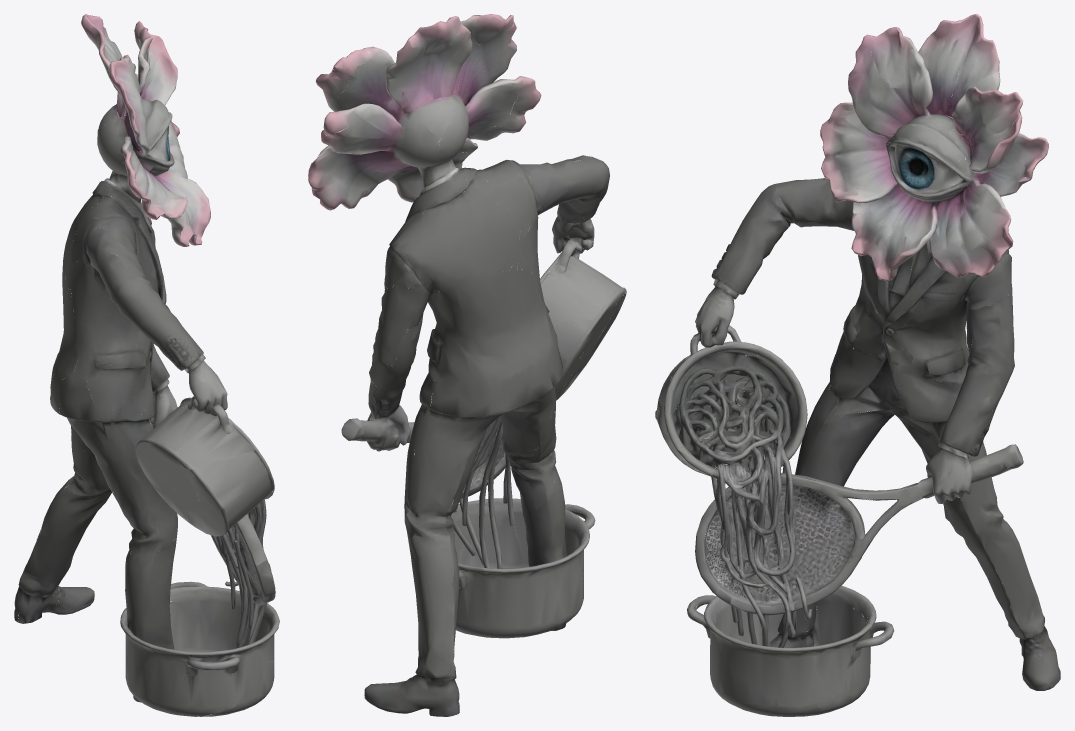
Rendered from clerk.glb.
3 views of the same model, side by side, from view 1: azimuth 30°, elevation 25°; view 2: azimuth 150°, elevation 25°; view 3: azimuth 270°, elevation 25° (orthographic). The views are drawn at different scales.
Parts seen in each view (by area): view 1: tripo_node_693e19a1-a717-4693-80da-2d3c8cc25a0a; view 2: tripo_node_693e19a1-a717-4693-80da-2d3c8cc25a0a; view 3: tripo_node_693e19a1-a717-4693-80da-2d3c8cc25a0a.
Part boxes in pixels (x1,y1,x2,y2): tripo_node_693e19a1-a717-4693-80da-2d3c8cc25a0a: [14, 14, 279, 716]; tripo_node_693e19a1-a717-4693-80da-2d3c8cc25a0a: [308, 14, 626, 716]; tripo_node_693e19a1-a717-4693-80da-2d3c8cc25a0a: [655, 14, 1060, 716].
Bounding box in the file's own units: 0.2947 × 0.9999 × 0.5564.
Materials: 1 (1 with a texture image).
